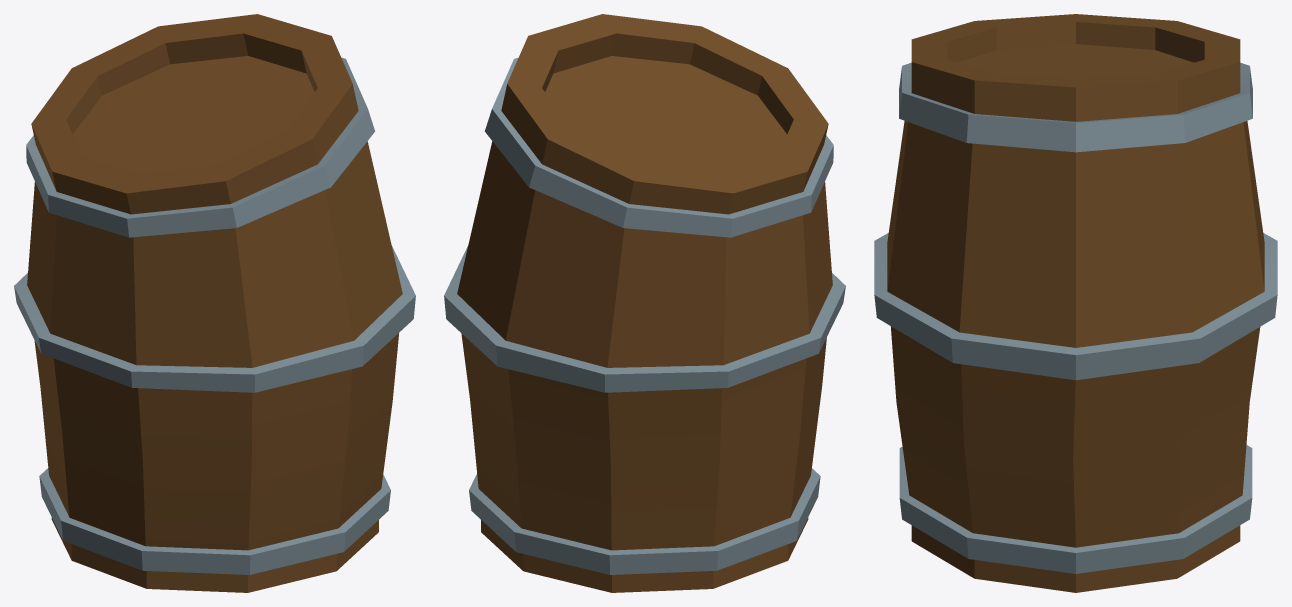
The model's file is Environment_Barrel_Medium_Mesh_V03.fbx.
3 renders of one model, left to right at view 1: azimuth 30°, elevation 25°; view 2: azimuth 150°, elevation 25°; view 3: azimuth 270°, elevation 25°, orthographic. The views are drawn at different scales.
Parts seen in each view (by area): view 1: Barrel_M; view 2: Barrel_M; view 3: Barrel_M.
Part boxes in pixels (bbox=[...]): Barrel_M: bbox=[14, 14, 415, 592]; Barrel_M: bbox=[444, 14, 845, 592]; Barrel_M: bbox=[874, 14, 1277, 592].
Size of the model in its own units: 54.33 by 68 by 50.56.
